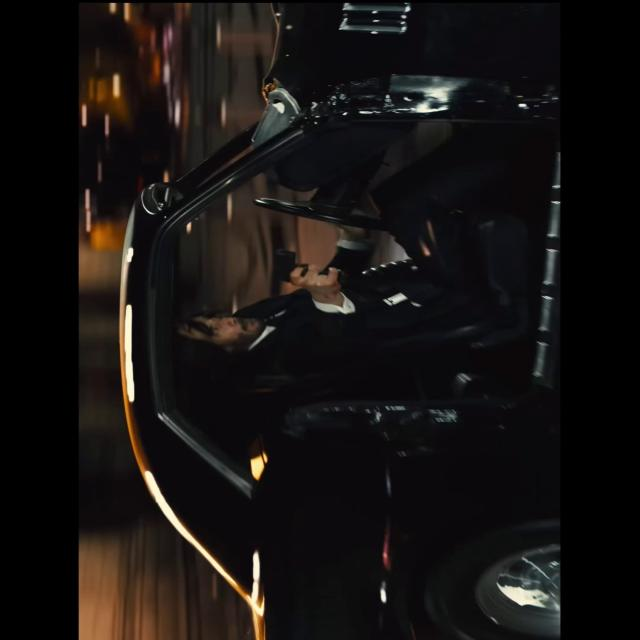weapons: (256, 240, 344, 289)
